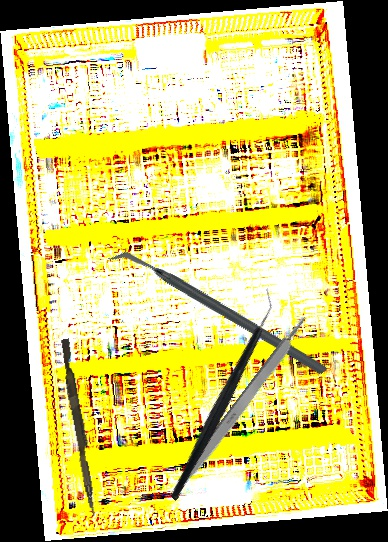Chopper: (107, 190, 330, 436), (111, 287, 332, 502)
Pusher: (56, 338, 103, 517)
Scalpel Handle: (171, 314, 313, 497)
